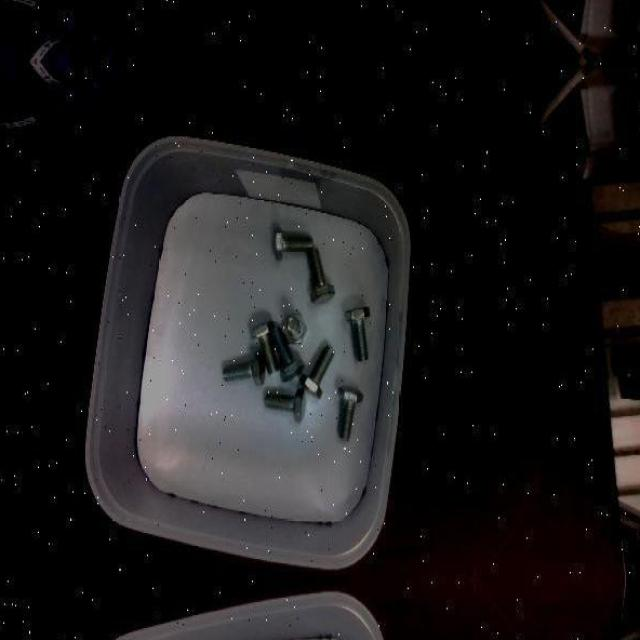screw: (270, 327, 305, 382), (300, 344, 335, 398), (250, 320, 279, 375), (308, 248, 336, 304), (223, 350, 266, 385), (266, 388, 307, 423), (338, 386, 364, 440), (345, 305, 371, 359), (274, 226, 314, 260), (282, 313, 308, 344)
